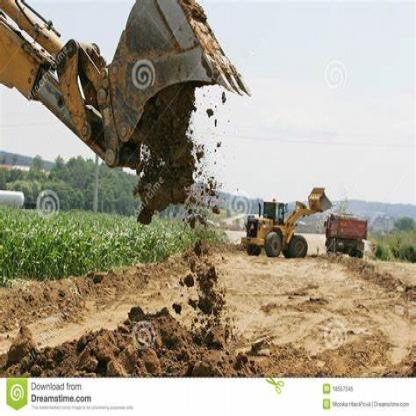bull_dozer/loader/grader: (243, 182, 334, 264)
excavator: (0, 2, 242, 174)
